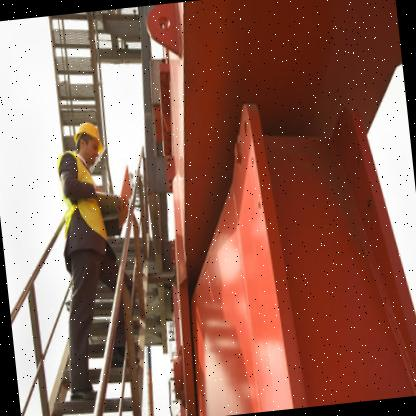capacete: (71, 116, 106, 156)
